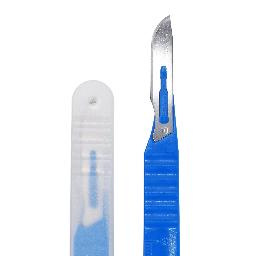scalpel: (142, 14, 180, 256)
